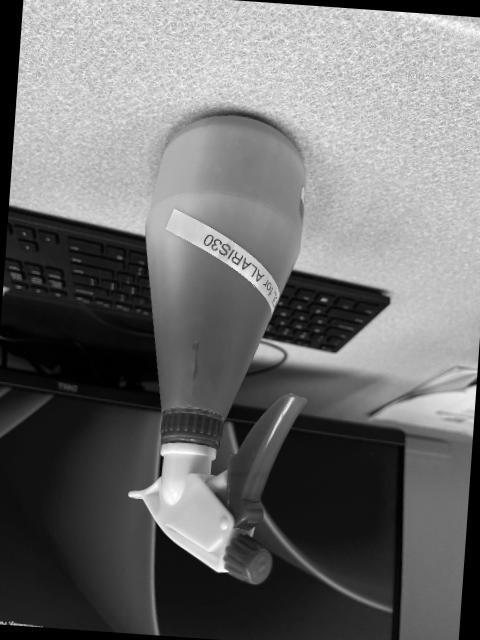AlcoholSpray: (126, 108, 306, 584)
